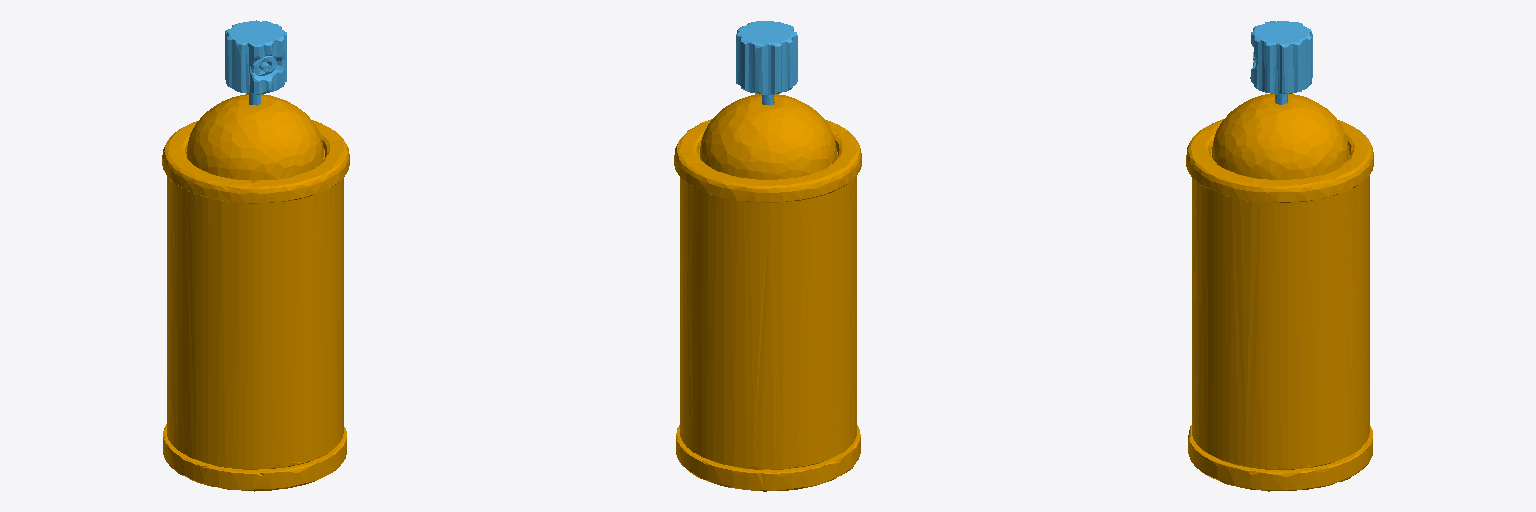
robot.urdf — aerosol_can:
<?xml version='1.0' encoding='utf-8'?>
<robot name="aerosol_can">
  <link name="link_1_container">
    <inertial>
      <origin xyz="-0.000194107 0.000189907 -0.045" rpy="0 0 0" />
      <mass value="2.31" />
      <inertia ixx="0.00855092" ixy="-1.51181e-07" ixz="-1.21911e-05" iyy="0.00855048" iyz="1.22144e-05" izz="0.00253329" />
    </inertial>
    <visual>
      <origin xyz="-0.000000 -0.000000 -0.000000" rpy="0 0 0" />
      <geometry>
        <mesh filename="objs/1_container__Layer_3_mtl.obj" />
      </geometry>
    </visual>
    <visual>
      <origin xyz="-0.000000 -0.000000 -0.000000" rpy="0 0 0" />
      <geometry>
        <mesh filename="objs/1_container__Layer_4_mtl.obj" />
      </geometry>
    </visual>
    <visual>
      <origin xyz="-0.000000 -0.000000 -0.000000" rpy="0 0 0" />
      <geometry>
        <mesh filename="objs/1_container__Layer_2_mtl.obj" />
      </geometry>
    </visual>
    <collision>
      <origin xyz="0 0 0" rpy="0 0 0" />
      <geometry>
        <mesh filename="collision/link_1_container.obj" />
      </geometry>
    </collision>
  </link>
  <link name="link_2_head">
    <inertial>
      <origin xyz="0.000238852 0.000849216 0.0968153" rpy="0 0 0" />
      <mass value="0.02" />
      <inertia ixx="4.69303e-06" ixy="-8.01037e-10" ixz="-2.78854e-08" iyy="4.69314e-06" iyz="-5.71949e-09" izz="2.144e-06" />
    </inertial>
    <visual>
      <origin xyz="-0.000000 -0.000000 -0.000000" rpy="0 0 0" />
      <geometry>
        <mesh filename="objs/2_head__Layer_1_mtl.obj" scale="1.3 1.3 1" />
      </geometry>
    </visual>
    <visual>
      <origin xyz="-0.000000 -0.000000 -0.000000" rpy="0 0 0" />
      <geometry>
        <mesh filename="objs/2_head__Layer_5_mtl.obj" scale="1.3 1.3 1" />
      </geometry>
    </visual>
    <visual>
      <origin xyz="-0.000000 -0.000000 -0.000000" rpy="0 0 0" />
      <geometry>
        <mesh filename="objs/2_head__Layer_7_mtl.obj" scale="1.3 1.3 1" />
      </geometry>
    </visual>
    <collision>
      <origin xyz="0 0 0" rpy="0 0 0" />
      <geometry>
        <mesh filename="collision/link_2_head.obj" />
      </geometry>
    </collision>
  </link>
  <joint name="joint_2_to_1" type="prismatic">
    <parent link="link_1_container" />
    <child link="link_2_head" />
    <origin xyz="0.0 0.0 0.0" rpy="0 0 0" />
    <axis xyz="0.0 -6.123233995736766e-17 -1.0" />
    <limit lower="0" upper="0.009" effort="20" velocity="5.0" />
    <dynamics damping="2" friction="0.2" />
  </joint>
</robot>

--- Facts derived from the render (not from the file) ---
The picture shows the robot from 3 angles, left to right: view 1: azimuth 30°, elevation 25°; view 2: azimuth 150°, elevation 25°; view 3: azimuth 270°, elevation 25°; orthographic projection.
Model aerosol_can with 2 links and 1 joints (1 prismatic), rooted at link_1_container, posed every joint at zero.
Links seen in each view (by area): view 1: link_1_container, link_2_head; view 2: link_1_container, link_2_head; view 3: link_1_container, link_2_head.
Link boxes in pixels (x1,y1,x2,y2): link_1_container: [162, 94, 349, 491]; link_2_head: [225, 20, 286, 105]; link_1_container: [674, 94, 861, 491]; link_2_head: [736, 21, 797, 105]; link_1_container: [1186, 94, 1373, 491]; link_2_head: [1250, 21, 1312, 104].
Bounding box of the posed robot: 0.0961 × 0.096 × 0.2367 m (x, y, z).
Meshes: 6 distinct files referenced, 6 mesh visuals loaded (6 OBJ).
